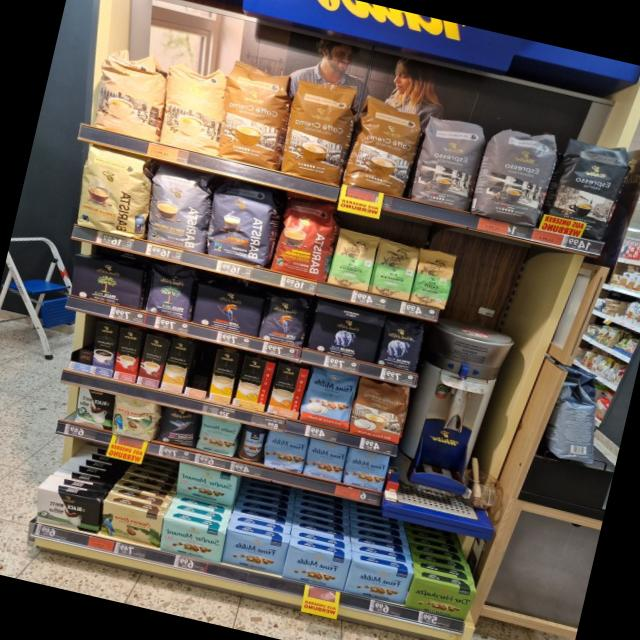AB Bohne: (375, 314, 427, 374)
AB Gemahlen: (306, 312, 382, 364)
Athiopien Bohne: (409, 248, 458, 310)
Athiopien Gemahlen: (327, 228, 379, 292), (368, 238, 420, 302)
BM Bohne: (142, 264, 198, 321)
BM Gemahlen: (65, 254, 147, 310)
BW Bohne: (69, 386, 115, 430)
BW Gemahlen: (28, 484, 103, 534)
Barista CB: (69, 143, 156, 240)
Barista CC: (137, 162, 215, 257)
Barista Espresso: (200, 178, 283, 268)
Barista Kolumbien: (268, 196, 342, 283)
C Fino Bohne: (154, 404, 201, 449)
CC Mild: (84, 42, 172, 142), (152, 60, 232, 156)
CC Vollmundig: (346, 377, 412, 443)
CC Vollmundig 36 Pads: (210, 59, 297, 170), (277, 74, 361, 185), (342, 94, 426, 198)
Colombia BB Bohne: (105, 393, 158, 443)
Colombia BB Gemahlen: (96, 501, 164, 546)
Empty Shelf: (184, 344, 217, 391), (70, 318, 97, 364)
Espresso Aromatisch: (470, 119, 562, 228), (406, 108, 488, 212)
Espresso Kraftig: (542, 130, 636, 246)
FM 36 Pads: (298, 366, 359, 431)
FM Bohne: (300, 437, 348, 483), (260, 428, 308, 474), (340, 448, 390, 492)
FM Gemahlen: (342, 557, 413, 606), (280, 544, 350, 592), (220, 528, 287, 576)
FM Instant: (236, 424, 266, 464)
Herzhatfe Mundig: (404, 576, 478, 622)
LG Bohne: (257, 288, 313, 348)
LG Gemahlen: (189, 282, 266, 338)
SM Bohne: (194, 412, 242, 458)
SM Gemahlen: (157, 517, 226, 564), (172, 462, 238, 507)
Simo CCMild: (232, 356, 276, 412)
Simo CCMild bigpack: (207, 348, 238, 404)
Simo CCVollmundig: (266, 363, 308, 419)
Simo Decaff: (160, 337, 193, 394)
Simo Es Brazil: (112, 327, 142, 383)
Simo Es Caramel: (136, 334, 168, 388)
Simo Es Kraft: (89, 321, 119, 377)
